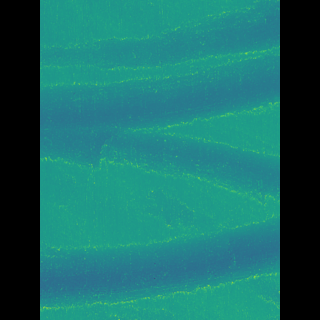Loch: (68, 0, 249, 128), (70, 216, 250, 314), (70, 126, 249, 207)
